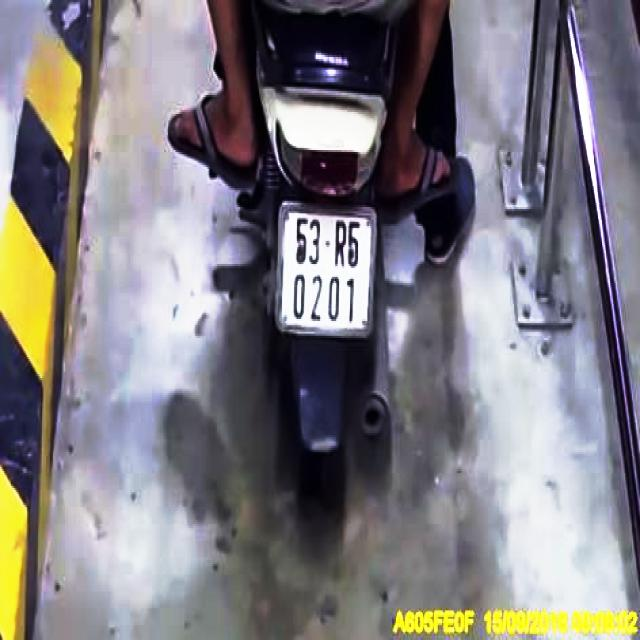license_plate: (279, 206, 378, 333)
